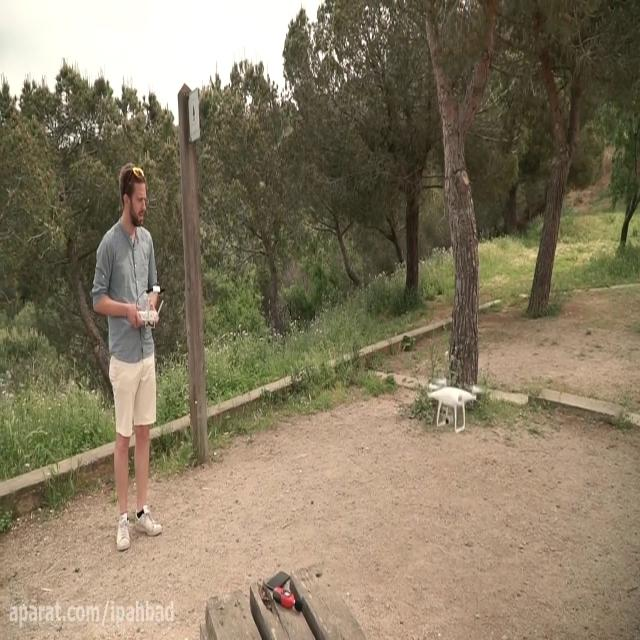drone: (427, 374, 483, 431)
